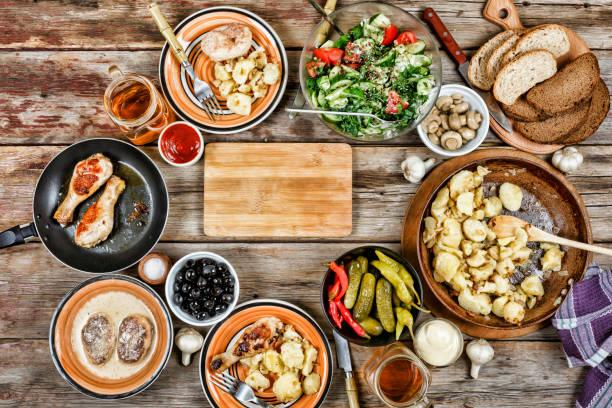Braised Crucian Carp: (402, 149, 589, 335), (299, 2, 439, 146), (31, 135, 171, 279), (158, 5, 288, 135), (48, 277, 173, 400), (198, 300, 329, 407)
